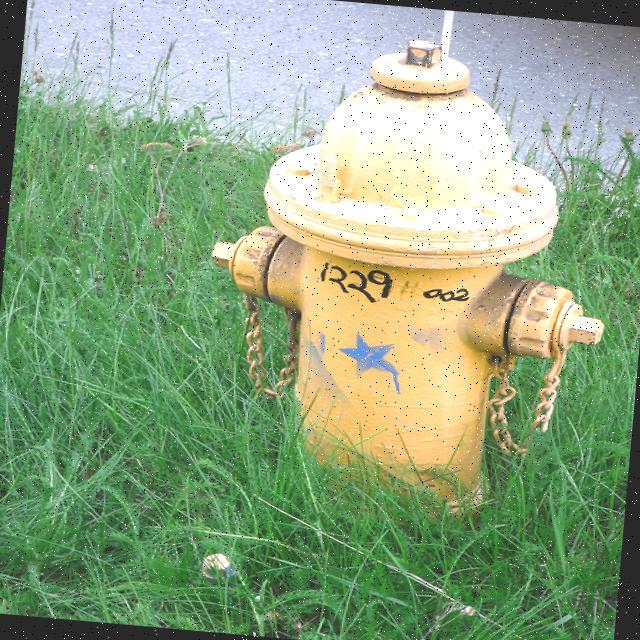fire_hydrant: (186, 22, 632, 526)
